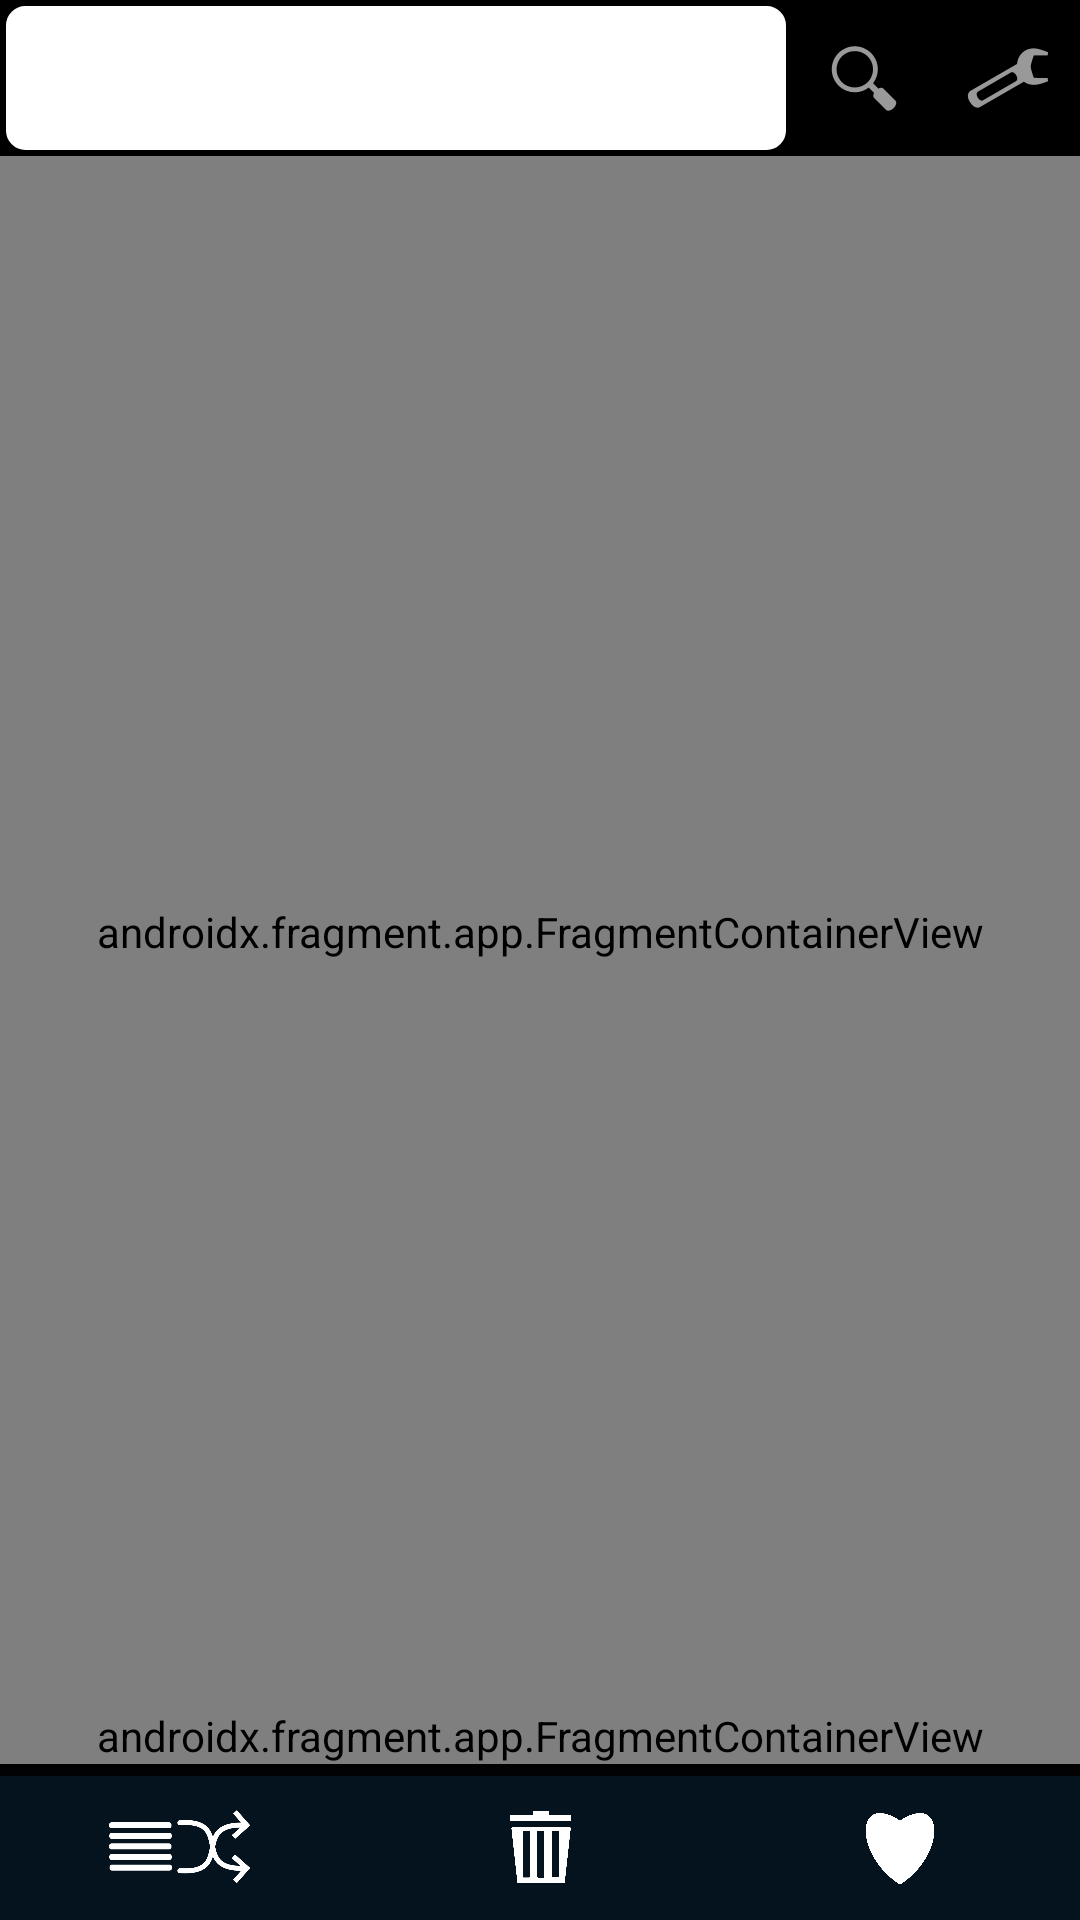

Locate icon controls on the screen. Image size 1080w x 1920h, boxes as [x1=x1, y1=y1, x2=x2, y2=y2].
clear queue: [x1=510, y1=1811, x2=571, y2=1883]
like: [x1=866, y1=1813, x2=934, y2=1884]
manage: [x1=968, y1=48, x2=1048, y2=108]
play all random: [x1=109, y1=1810, x2=250, y2=1883]
search: [x1=831, y1=46, x2=897, y2=111]
